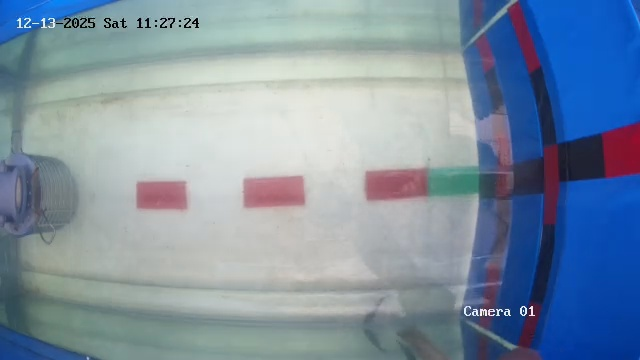fish: (280, 314, 323, 330)
